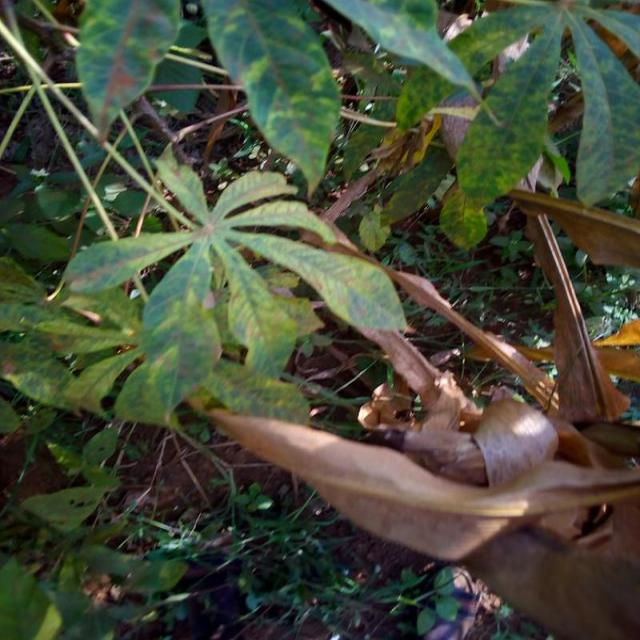cassava leaf: (59, 142, 408, 431), (200, 0, 341, 198), (73, 0, 181, 145)
